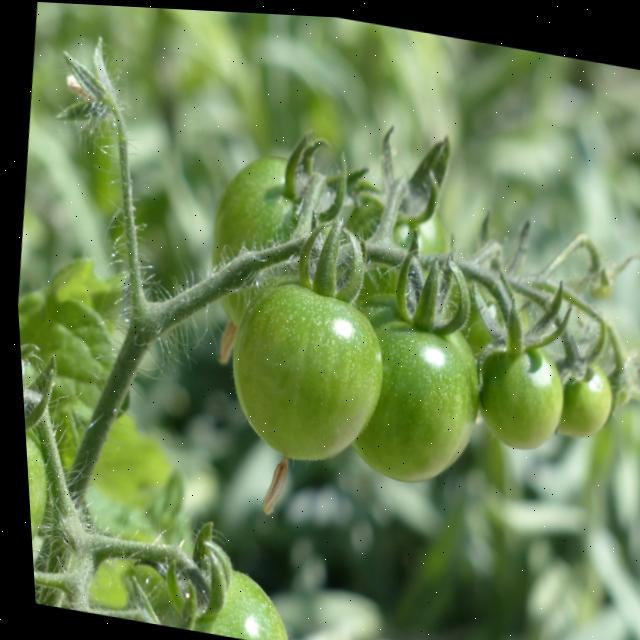unripe: (211, 259, 380, 465), (342, 286, 493, 498), (201, 133, 336, 260), (467, 329, 569, 450), (168, 551, 294, 640), (548, 342, 629, 442)
